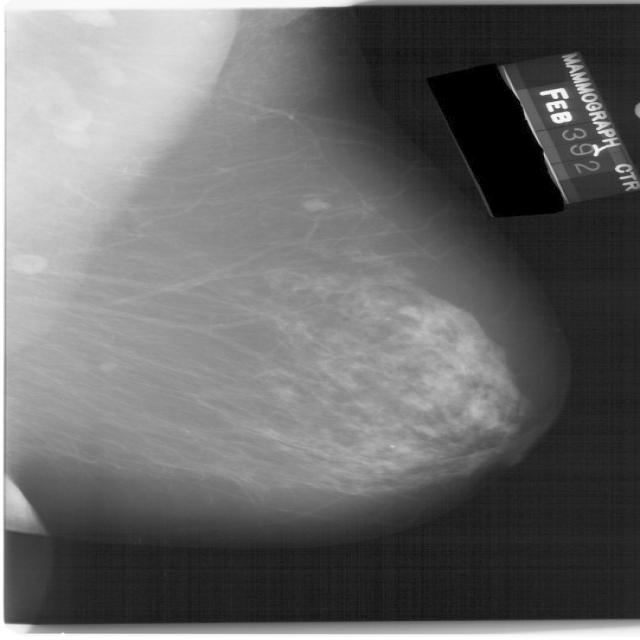tumour: (300, 198, 329, 212)
